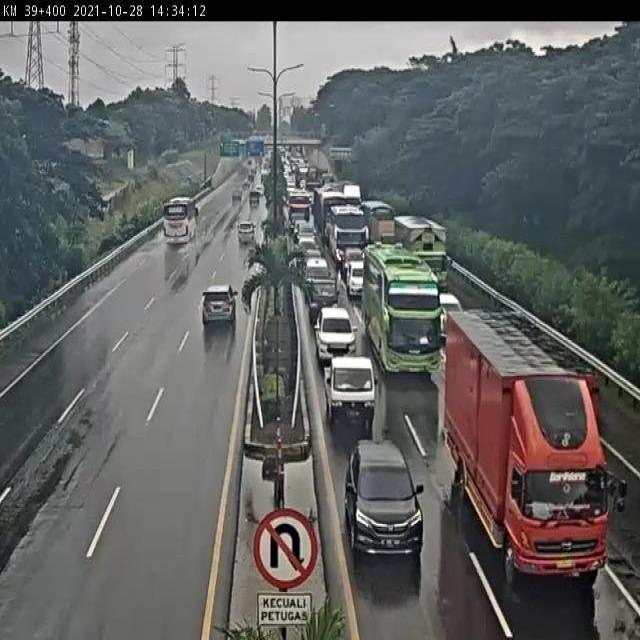bus-l-: (364, 249, 442, 368), (330, 204, 366, 261), (162, 199, 196, 245)
car: (345, 438, 425, 562), (324, 355, 380, 420), (315, 303, 358, 365), (308, 275, 340, 309), (344, 258, 369, 294), (297, 234, 317, 258)
truck-l-: (446, 313, 606, 587), (392, 218, 453, 294)
